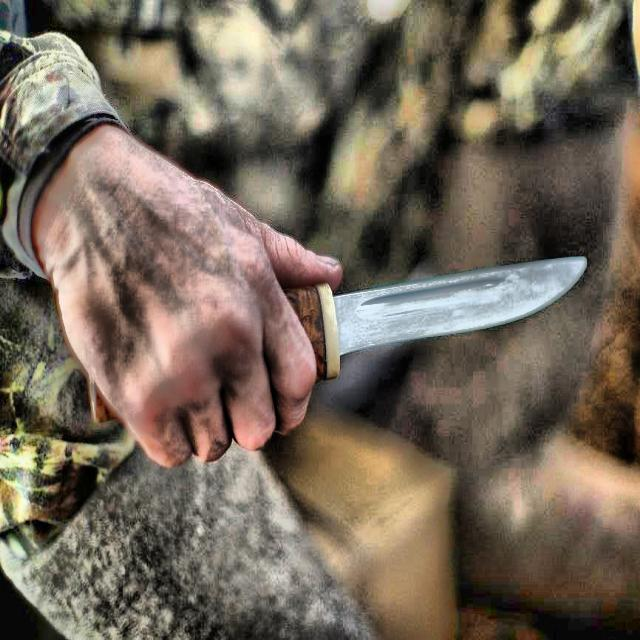knife: (89, 254, 586, 422)
